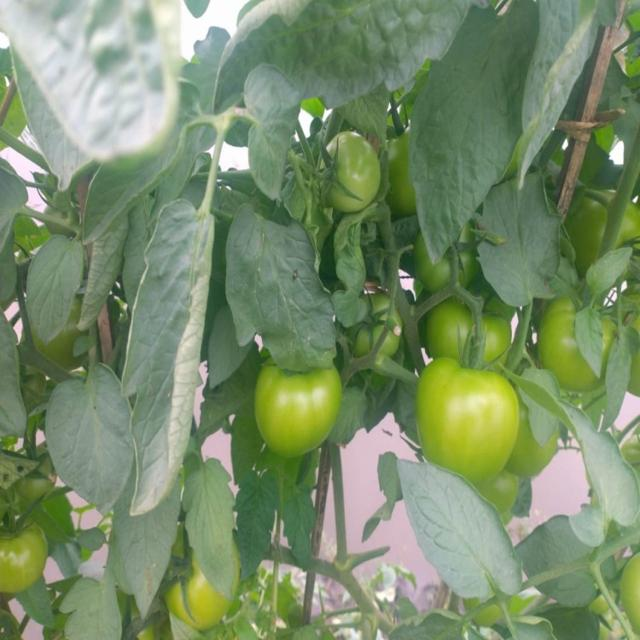tomato: (415, 363, 518, 478), (256, 350, 339, 448), (537, 293, 614, 394), (424, 296, 516, 362), (165, 536, 225, 625), (315, 127, 379, 210), (578, 189, 640, 260), (415, 229, 478, 293), (1, 514, 47, 595), (352, 289, 401, 358), (388, 121, 414, 214), (616, 557, 640, 640)
